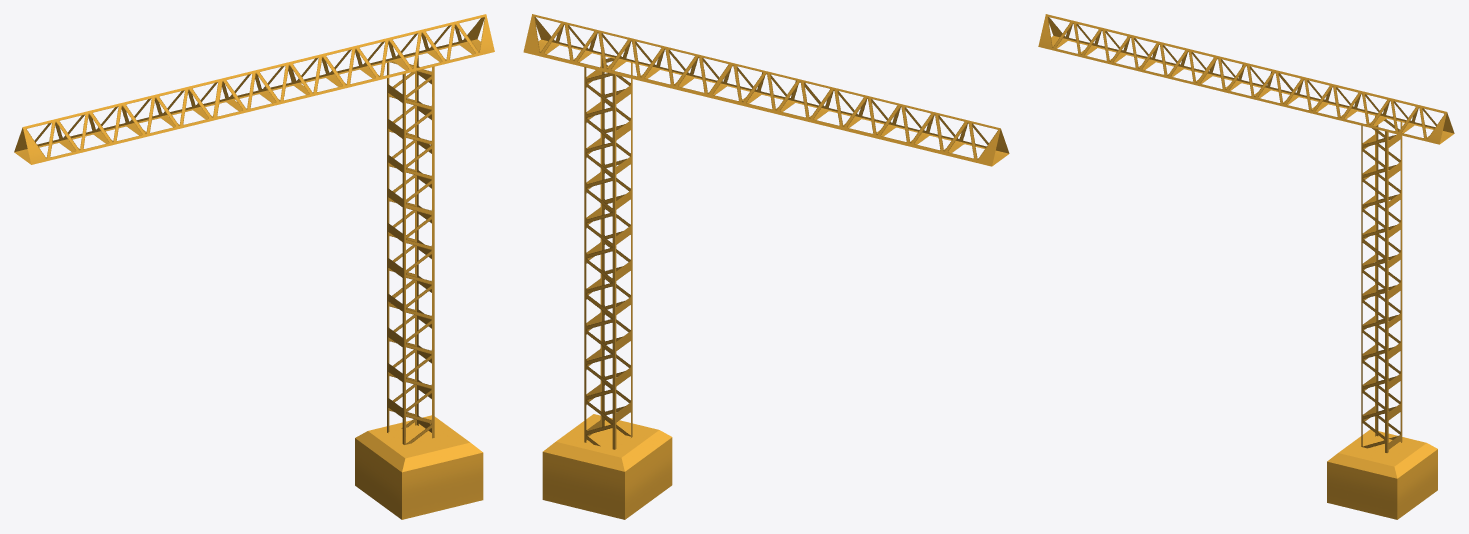
The model's file is Crane.fbx.
3 views of the same model, side by side, from view 1: azimuth 30°, elevation 25°; view 2: azimuth 150°, elevation 25°; view 3: azimuth 330°, elevation 25° (orthographic). The views are drawn at different scales.
Visible parts, largest first — view 1: pCube272; view 2: pCube272; view 3: pCube272.
Part boxes in pixels (x1,y1,x2,y2): pCube272: (14, 14, 494, 519); pCube272: (523, 14, 1009, 519); pCube272: (1038, 14, 1454, 519).
Size of the model in its own units: 11896 by 11252 by 2089.
